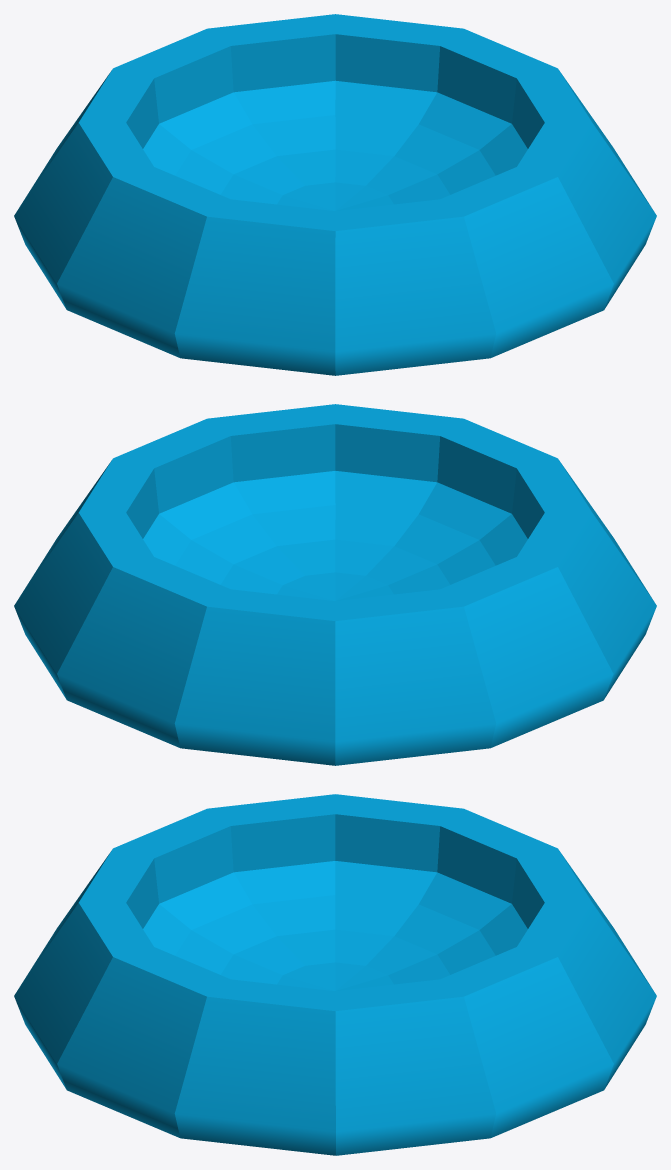
The model's file is Cylindre_Volume_Hole.fbx.
3 views of the same model, one above another, from view 1: azimuth 30°, elevation 25°; view 2: azimuth 150°, elevation 25°; view 3: azimuth 270°, elevation 25° (orthographic).
Visible parts, largest first — view 1: Cylindre_Volume_Hole; view 2: Cylindre_Volume_Hole; view 3: Cylindre_Volume_Hole.
Part boxes in pixels (left/top/right/bottom): Cylindre_Volume_Hole: left=14, top=14, right=656, bottom=375; Cylindre_Volume_Hole: left=14, top=404, right=656, bottom=765; Cylindre_Volume_Hole: left=14, top=794, right=656, bottom=1155.
Bounding box in the file's own units: 8.49 × 1.78 × 8.5.
